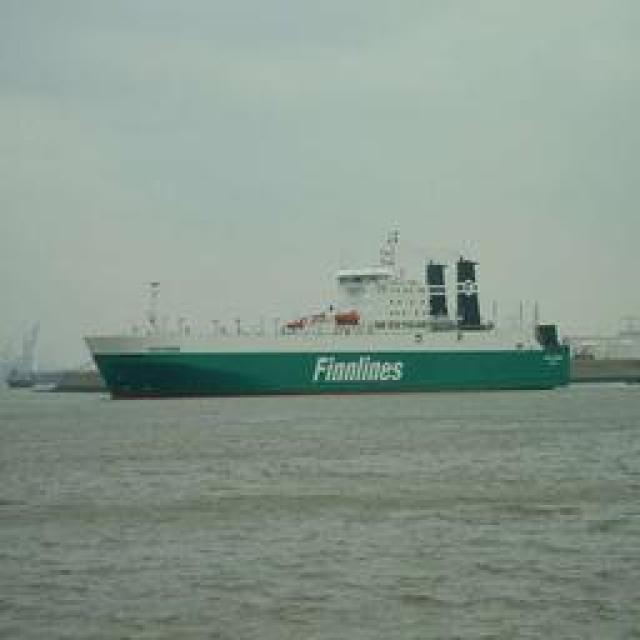Ship: (87, 236, 570, 401)
